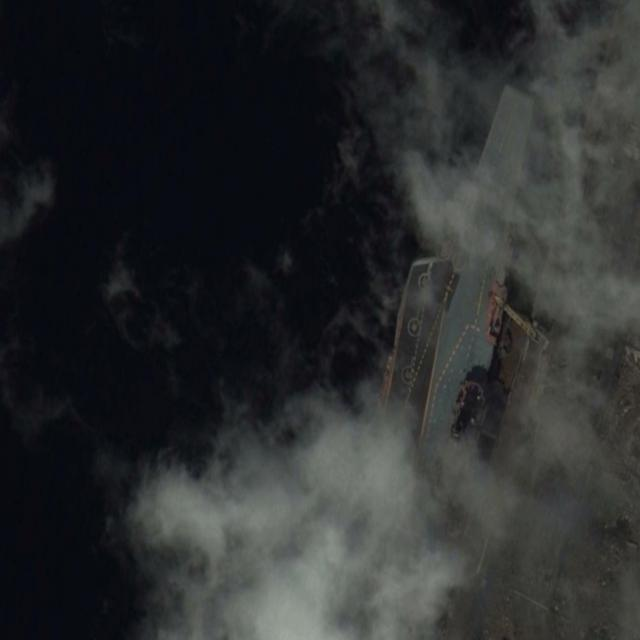Aircraft Carrier: (334, 60, 558, 609)
